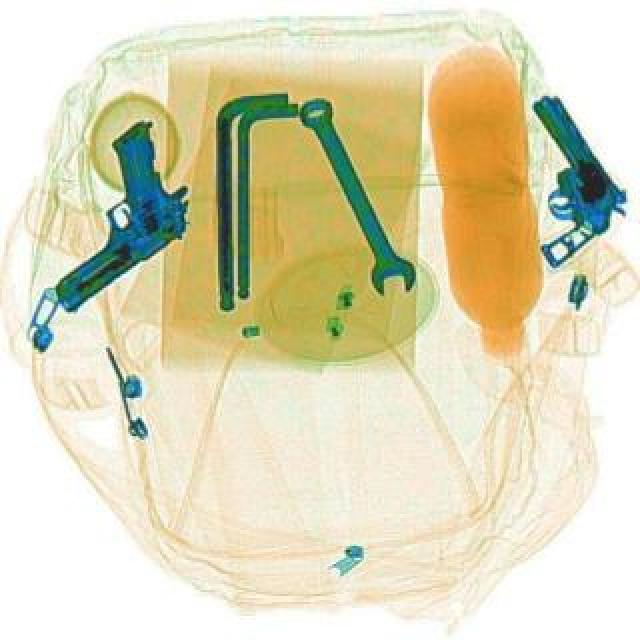gun: (4, 126, 224, 314), (466, 88, 640, 268)
scissors: (292, 90, 424, 302)
